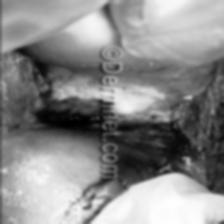Toxin: (37, 85, 92, 124), (159, 107, 197, 155), (120, 90, 146, 119)
